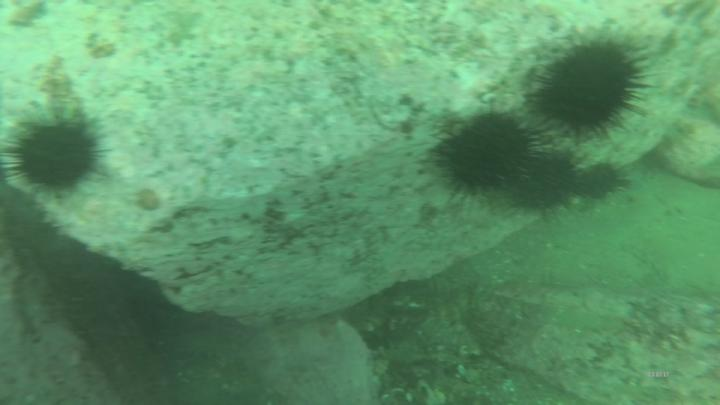echinus: (527, 34, 663, 138), (1, 104, 122, 203), (432, 101, 550, 199), (519, 136, 592, 224), (569, 155, 637, 214)
